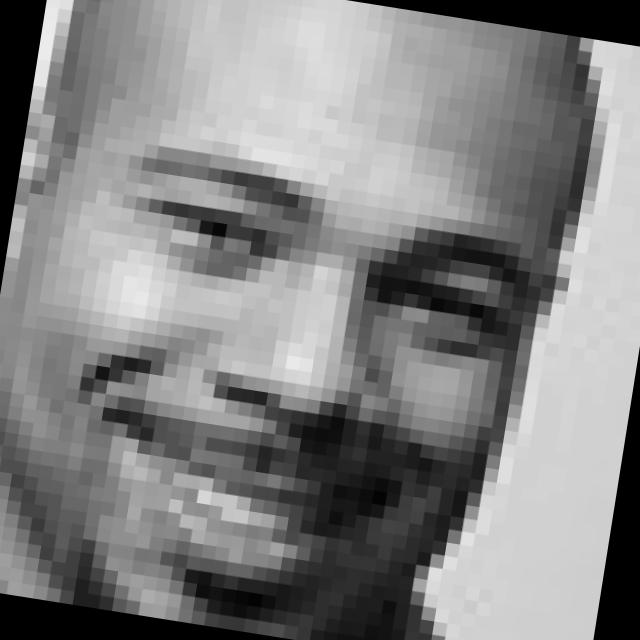happy: (37, 123, 544, 636)
